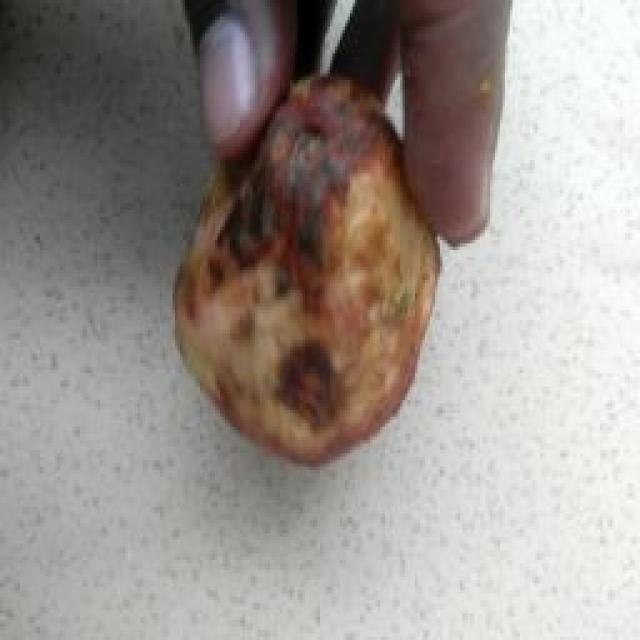Bad_Guava: (174, 80, 440, 464)
